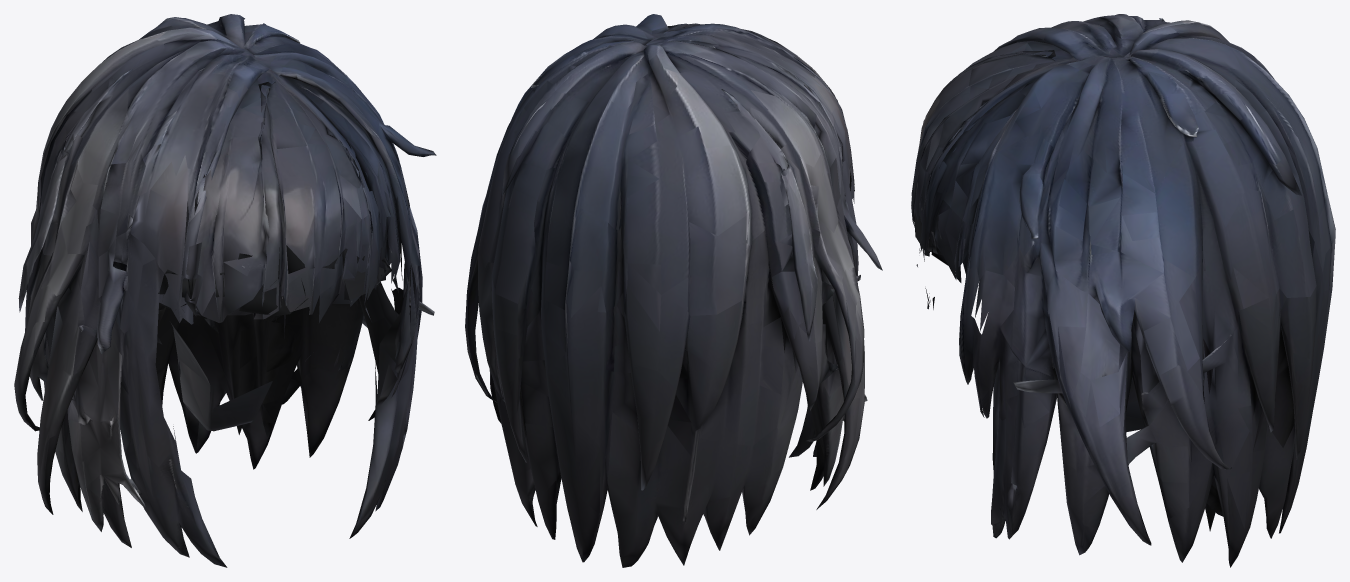
Rendered from pelo_desordenado.glb.
3 renders of one model, left to right at view 1: azimuth 30°, elevation 25°; view 2: azimuth 150°, elevation 25°; view 3: azimuth 270°, elevation 25°, orthographic. The views are drawn at different scales.
Visible parts, largest first — view 1: pelo_desordenado; view 2: pelo_desordenado; view 3: pelo_desordenado.
Part boxes in pixels (x1,y1,x2,y2): pelo_desordenado: (14, 14, 436, 567); pelo_desordenado: (465, 14, 882, 567); pelo_desordenado: (911, 14, 1335, 567).
Bounding box in the file's own units: 0.2419 × 0.29 × 0.2246.
1 material, 1 textured.
